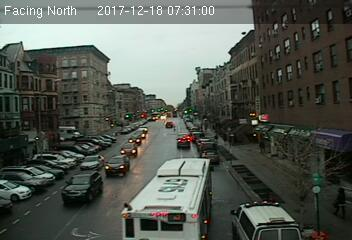bus: (118, 156, 212, 240)
car: (62, 170, 101, 202), (103, 153, 129, 175), (79, 155, 104, 170), (118, 142, 138, 157), (200, 150, 220, 163), (176, 136, 190, 148)
pedestrian: (331, 185, 347, 218)
police: (230, 198, 302, 240)
